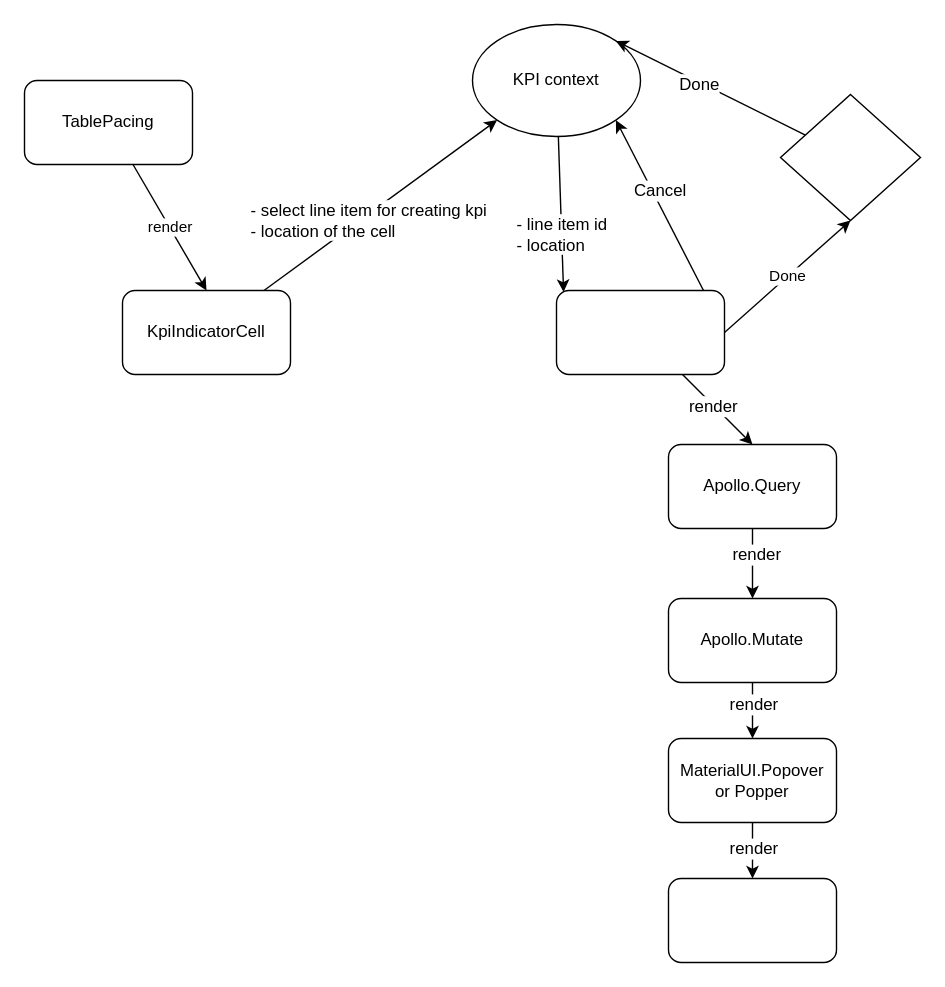
This 945x987 diagram has some shape labels left out. Each missing label, with the centre of its shape:
"HTML.Input" belongs at [751,919].
"KpiCreatingModal" belongs at [639,331].
"update kpi cache" belongs at [849,156].
